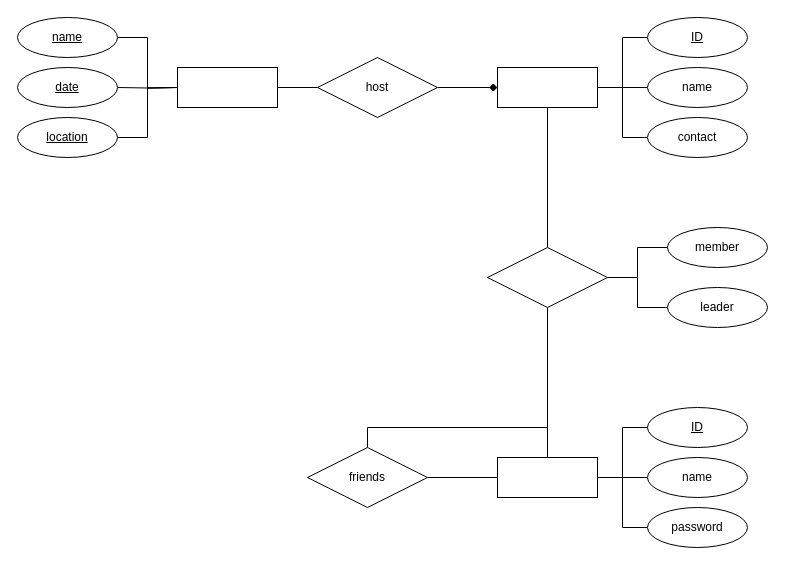
Some shapes in this 785 by 565 pixel diagram are drawn without their labels. Each missing label, with the box of its shape:
Affiliate: (486, 246, 608, 308)
Events: (176, 66, 278, 108)
Organization: (496, 66, 598, 108)
User: (496, 456, 598, 498)
